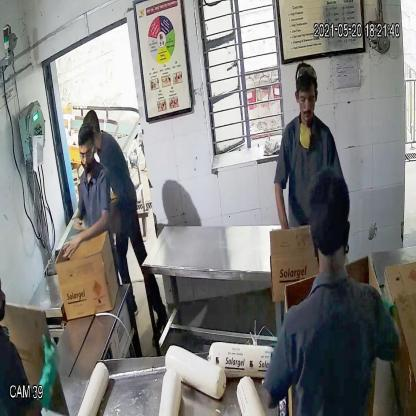goggles: (78, 145, 95, 162)
no_goggles: (296, 90, 318, 107)
